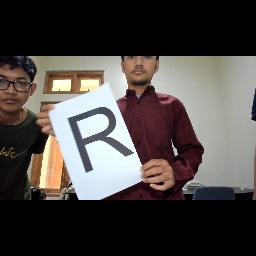r: (62, 103, 138, 179)
